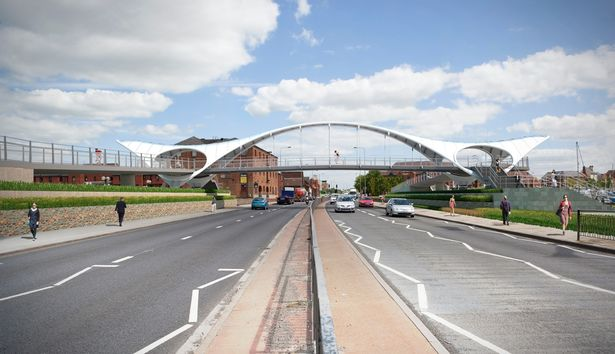bridge: (115, 123, 552, 189)
